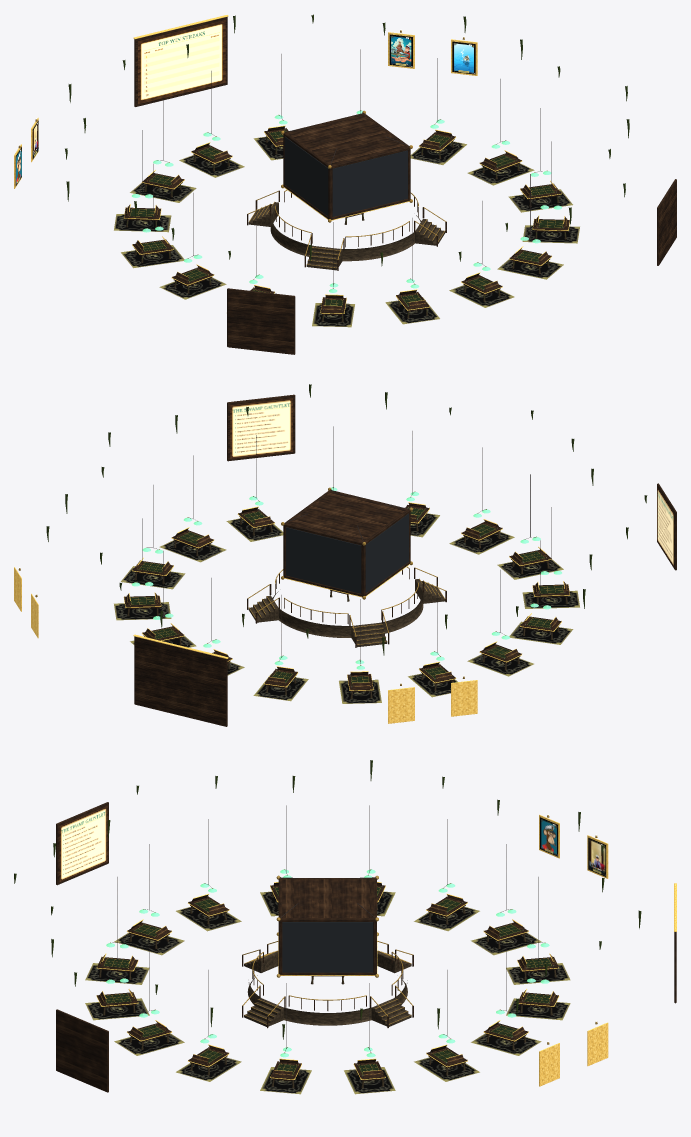
The model's file is sp_f3_room.glb.
3 views of the same model, one above another, from view 1: azimuth 30°, elevation 25°; view 2: azimuth 150°, elevation 25°; view 3: azimuth 270°, elevation 25° (orthographic). The views are drawn at different scales.
Parts seen in each view (by area): view 1: spire; view 2: spire; view 3: spire.
Boxes of the visible parts, x1=… form: spire: x1=14, y1=14, x2=676, y2=354; spire: x1=14, y1=384, x2=676, y2=726; spire: x1=14, y1=760, x2=676, y2=1094.
Bounding box in the file's own units: 49.75 × 8.89 × 52.55.
23 materials, 19 textured.
